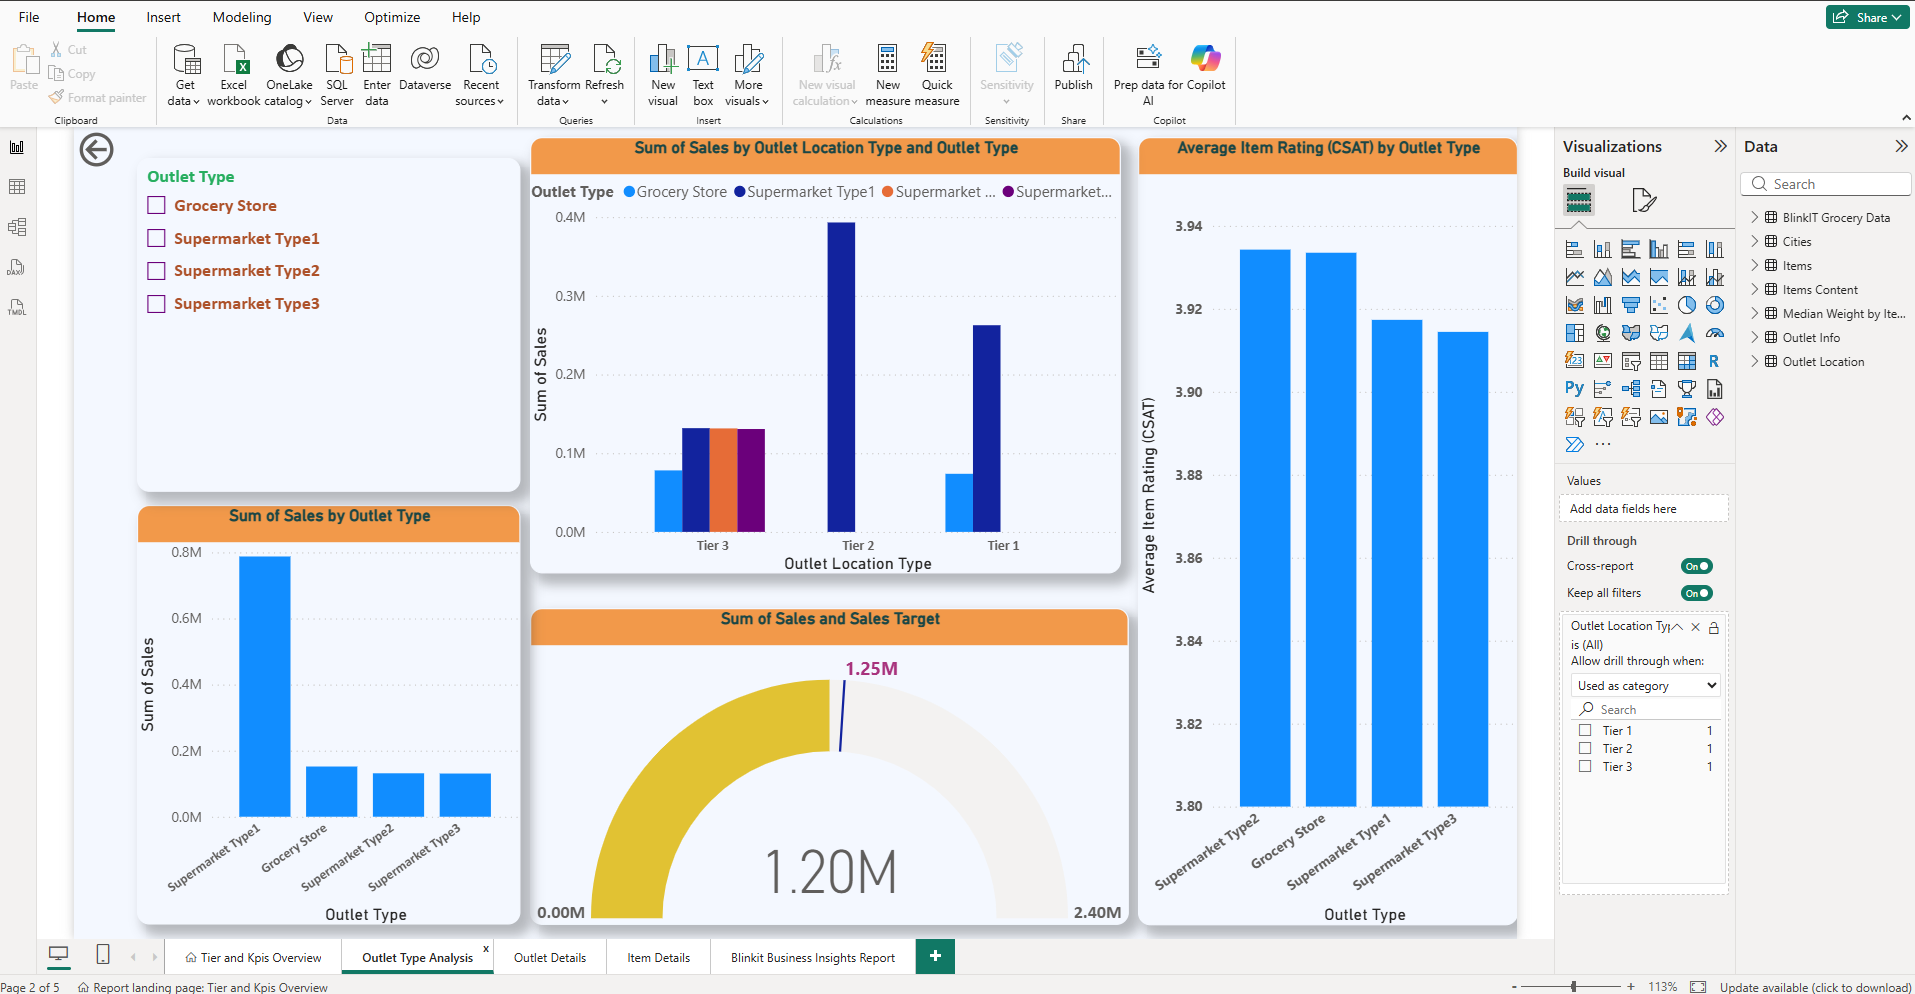

The page's visual inventory and layout, read from the dashboard file:
{"tool":"powerbi","page":{"name":"Outlet Type Analysis","canvas":[1280,720],"ordinal":1},"visuals":[{"type":"actionButton","box":[0,0,100,40],"z":0},{"type":"gauge","fields":{"Y":["Sum(BlinkIT Grocery Data.Sales)"],"TargetValue":["BlinkIT Grocery Data.Sales Target"]},"box":[412,439,359,216],"z":1000},{"type":"columnChart","fields":{"Category":["Outlet Info.Outlet Type"],"Y":["Sum(BlinkIT Grocery Data.Sales)"]},"box":[5,220,372,372],"z":2000},{"type":"slicer","fields":{"Values":["Outlet Info.Outlet Type"]},"box":[100,19,182,162],"z":3000},{"type":"columnChart","fields":{"Category":["Outlet Info.Outlet Type"],"Y":["BlinkIT Grocery Data.Average Item Rating (CSAT)"]},"box":[823,132,337,401],"z":4000},{"type":"clusteredColumnChart","fields":{"Category":["Outlet Location.Outlet Location Type"],"Y":["Sum(BlinkIT Grocery Data.Sales)"],"Series":["Outlet Info.Outlet Type"]},"box":[396.2,9.2,410.8,385.4],"z":4001}]}

Visuals, with their boxes on the page's 1280x720 design canvas (x1, y1, x2, y2). These are canvas units, not pixel positions in the 1915x994 screenshot, which may show the page scaled, cropped or inside an application window:
actionButton: select_region(0, 0, 100, 40)
gauge - Sum(BlinkIT Grocery Data.Sales) x BlinkIT Grocery Data.Sales Target: select_region(412, 439, 771, 655)
columnChart - Outlet Info.Outlet Type x Sum(BlinkIT Grocery Data.Sales): select_region(5, 220, 377, 592)
slicer - Outlet Info.Outlet Type: select_region(100, 19, 282, 181)
columnChart - Outlet Info.Outlet Type x BlinkIT Grocery Data.Average Item Rating (CSAT): select_region(823, 132, 1160, 533)
clusteredColumnChart - Outlet Location.Outlet Location Type x Sum(BlinkIT Grocery Data.Sales): select_region(396, 9, 807, 395)
